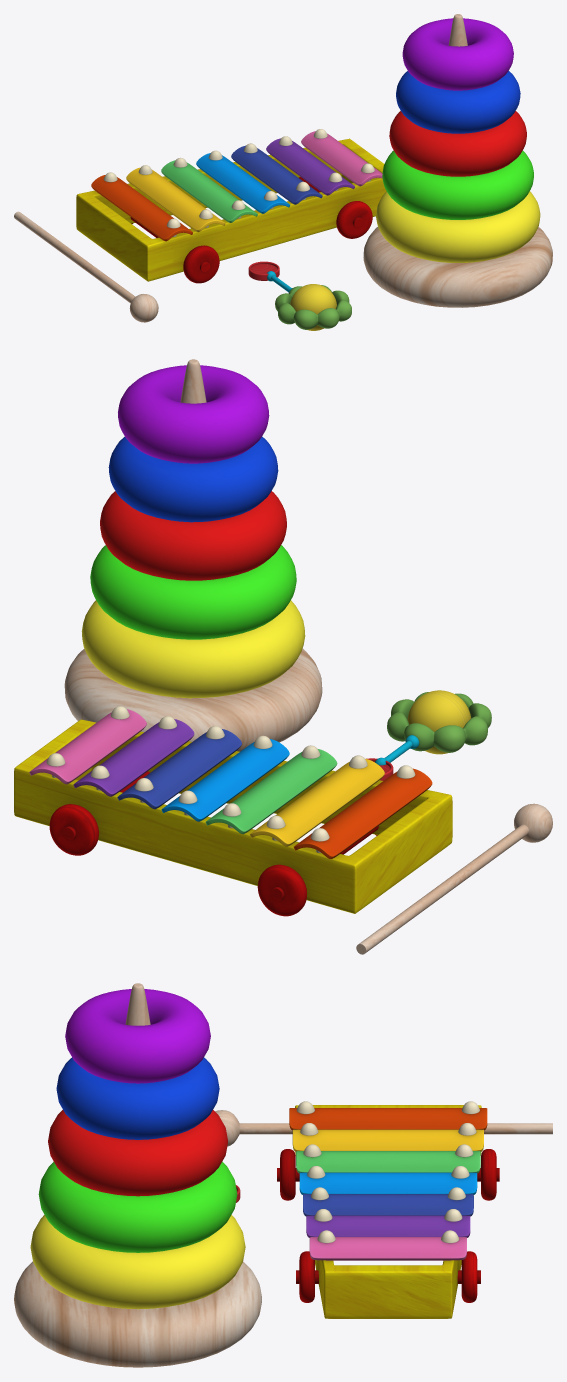
Rendered from BabyToys.fbx.
3 renders of one model, top to bottom at view 1: azimuth 30°, elevation 25°; view 2: azimuth 150°, elevation 25°; view 3: azimuth 270°, elevation 25°, orthographic. The views are drawn at different scales.
Parts seen in each view (by area): view 1: babytoyXylophone.Shape, babytoyRingTower.Shape, babytoyBottomRing.Shape, babytoyBottomMid.Shape, babytoyTopRing.Shape, babytoyMidRing.Shape, babytoyTopMid.Shape, babytoyRattle.Shape, babytoyXyloStick.Shape; view 2: babytoyXylophone.Shape, babytoyBottomRing.Shape, babytoyBottomMid.Shape, babytoyRingTower.Shape, babytoyTopRing.Shape, babytoyMidRing.Shape, babytoyTopMid.Shape, babytoyRattle.Shape, babytoyXyloStick.Shape; view 3: babytoyXylophone.Shape, babytoyRingTower.Shape, babytoyBottomRing.Shape, babytoyBottomMid.Shape, babytoyTopRing.Shape, babytoyMidRing.Shape, babytoyTopMid.Shape, babytoyXyloStick.Shape.
Boxes of the visible parts, bbox=[...] form: babytoyXylophone.Shape: bbox=[76, 129, 386, 283]; babytoyRingTower.Shape: bbox=[363, 14, 552, 307]; babytoyBottomRing.Shape: bbox=[376, 191, 540, 262]; babytoyBottomMid.Shape: bbox=[382, 150, 533, 219]; babytoyTopRing.Shape: bbox=[402, 18, 513, 90]; babytoyMidRing.Shape: bbox=[389, 111, 526, 176]; babytoyTopMid.Shape: bbox=[396, 71, 520, 133]; babytoyRattle.Shape: bbox=[248, 261, 351, 330]; babytoyXyloStick.Shape: bbox=[14, 211, 158, 322]; babytoyXylophone.Shape: bbox=[14, 706, 452, 916]; babytoyBottomRing.Shape: bbox=[81, 600, 305, 698]; babytoyBottomMid.Shape: bbox=[90, 545, 296, 639]; babytoyRingTower.Shape: bbox=[64, 359, 322, 751]; babytoyTopRing.Shape: bbox=[118, 365, 269, 463]; babytoyMidRing.Shape: bbox=[100, 491, 286, 580]; babytoyTopMid.Shape: bbox=[108, 436, 278, 522]; babytoyRattle.Shape: bbox=[366, 690, 491, 780]; babytoyXyloStick.Shape: bbox=[356, 803, 552, 954]; babytoyXylophone.Shape: bbox=[277, 1101, 499, 1318]; babytoyRingTower.Shape: bbox=[14, 983, 261, 1367]; babytoyBottomRing.Shape: bbox=[30, 1215, 245, 1309]; babytoyBottomMid.Shape: bbox=[38, 1161, 237, 1252]; babytoyTopRing.Shape: bbox=[65, 989, 210, 1083]; babytoyMidRing.Shape: bbox=[48, 1110, 227, 1196]; babytoyTopMid.Shape: bbox=[56, 1057, 219, 1139]; babytoyXyloStick.Shape: bbox=[215, 1110, 552, 1146].
Size of the model in its own units: 58.68 by 38.8 by 55.61.
